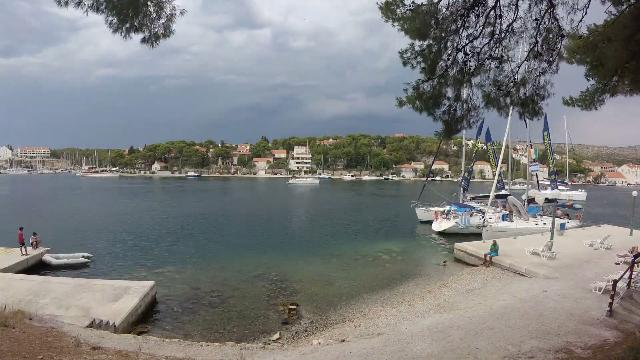Sailboat: (284, 174, 322, 187)
